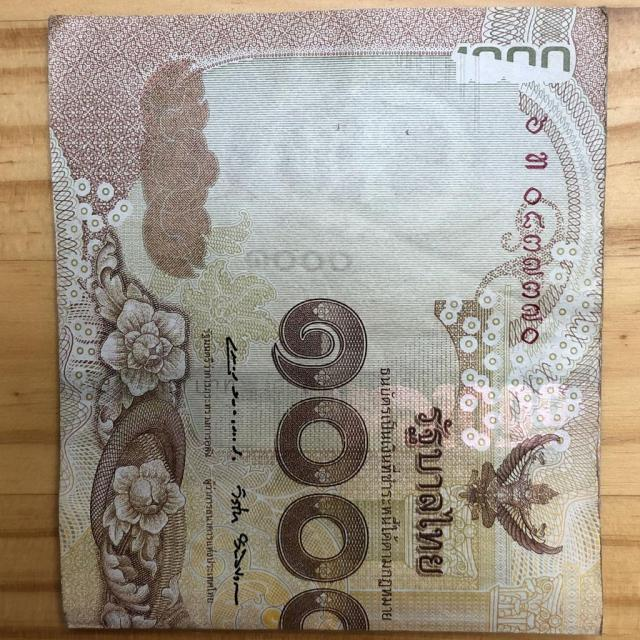THAI1000: (49, 8, 608, 634)
